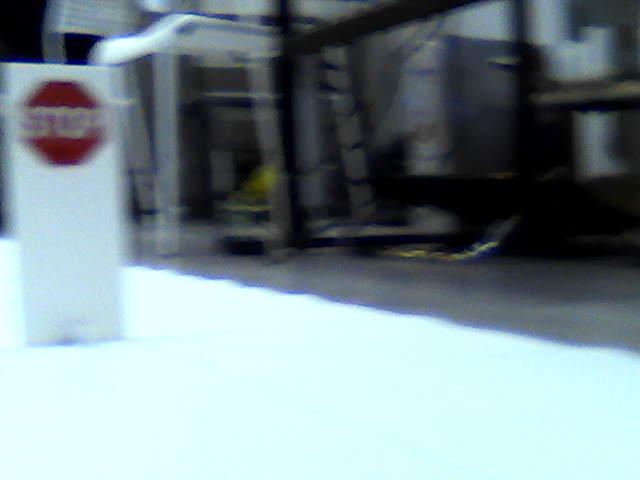Stop: (20, 80, 101, 163)
